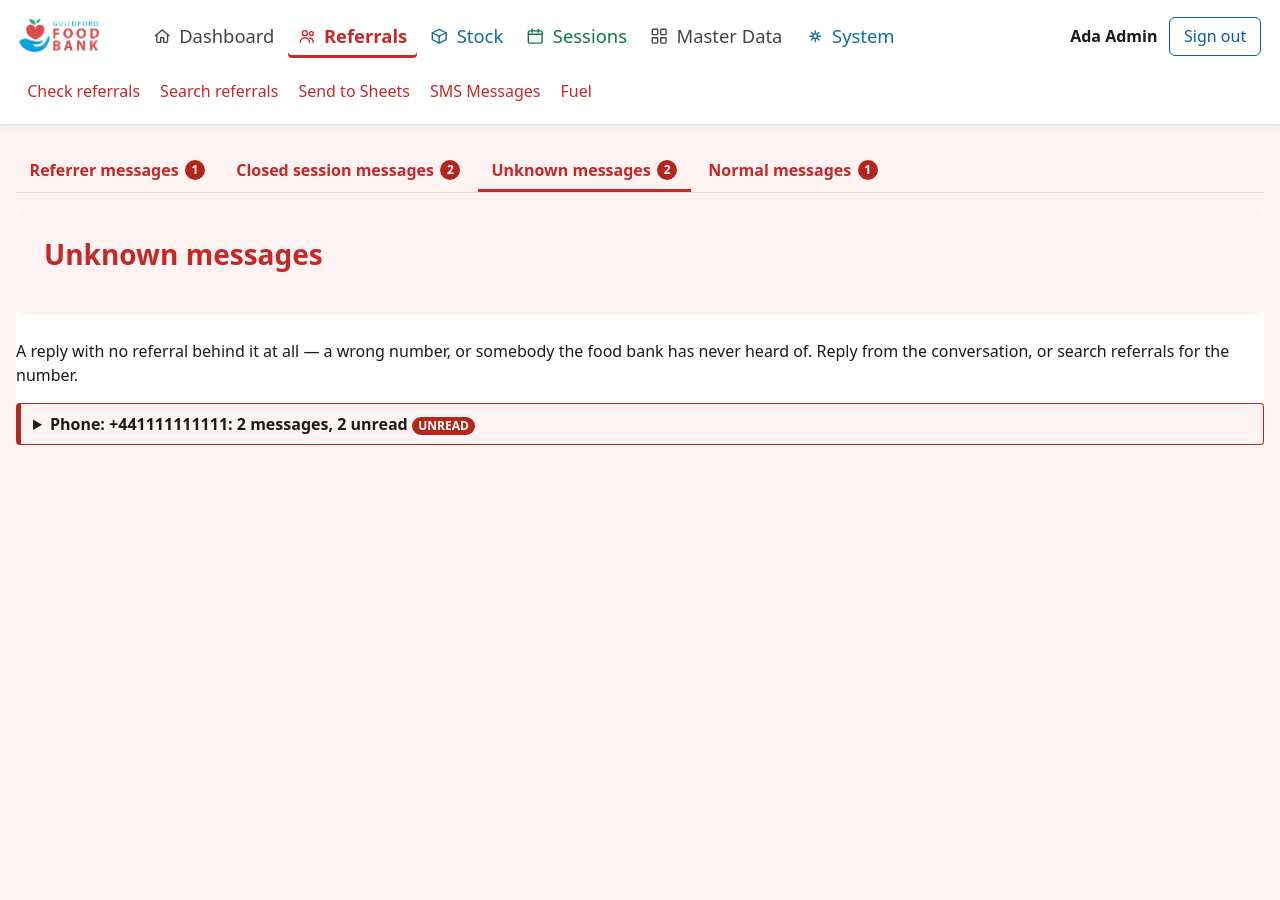
Test: SmsInboxLayout — Unknown messages tab › opens referral search with an unmatched sender number pre-filled without putting it in the URL
Click the text "Phone: +441111111111". click: (80, 424)
box: [50,413,228,435]
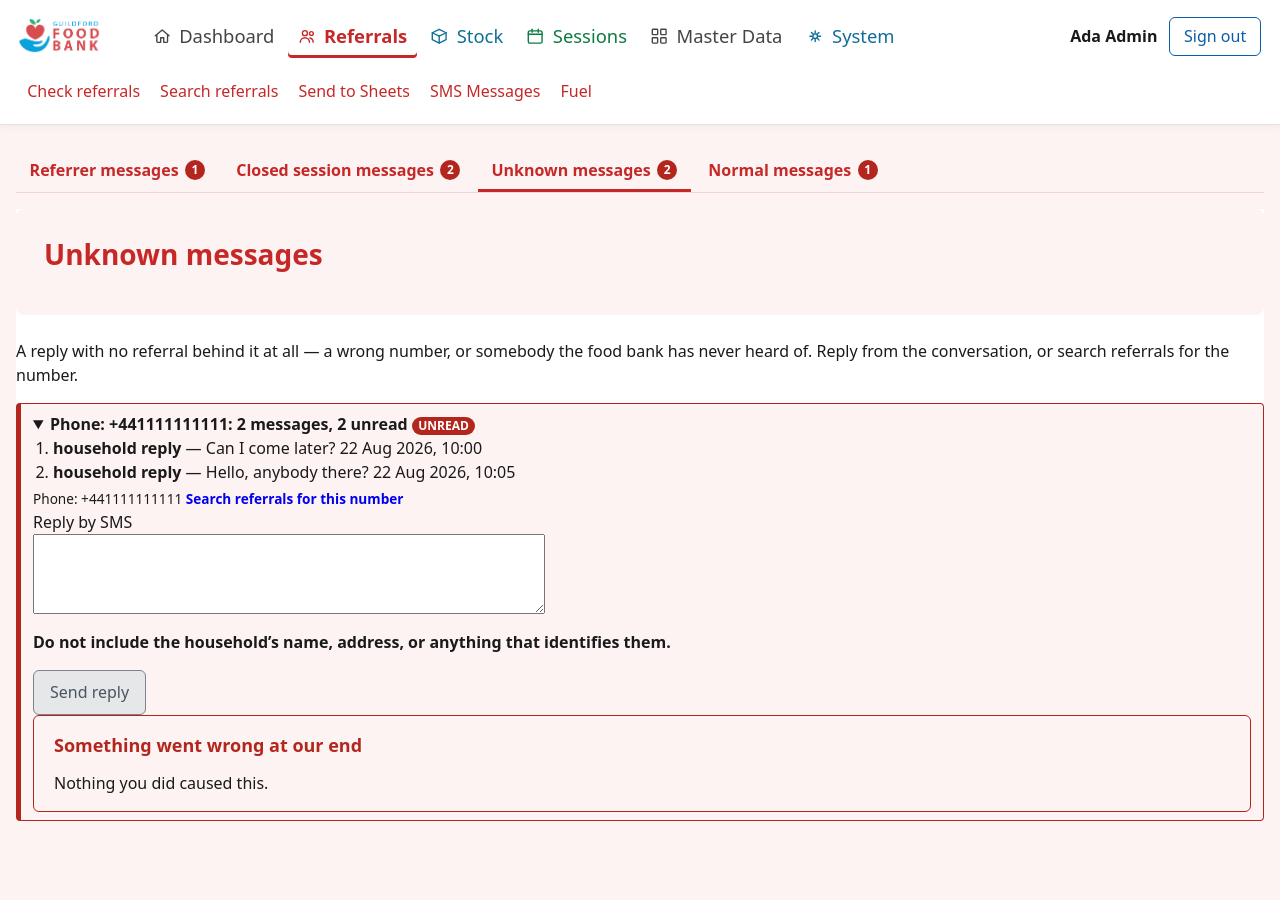
Click the link "Search referrals for this number". click: (295, 499)
box: [186,489,404,508]
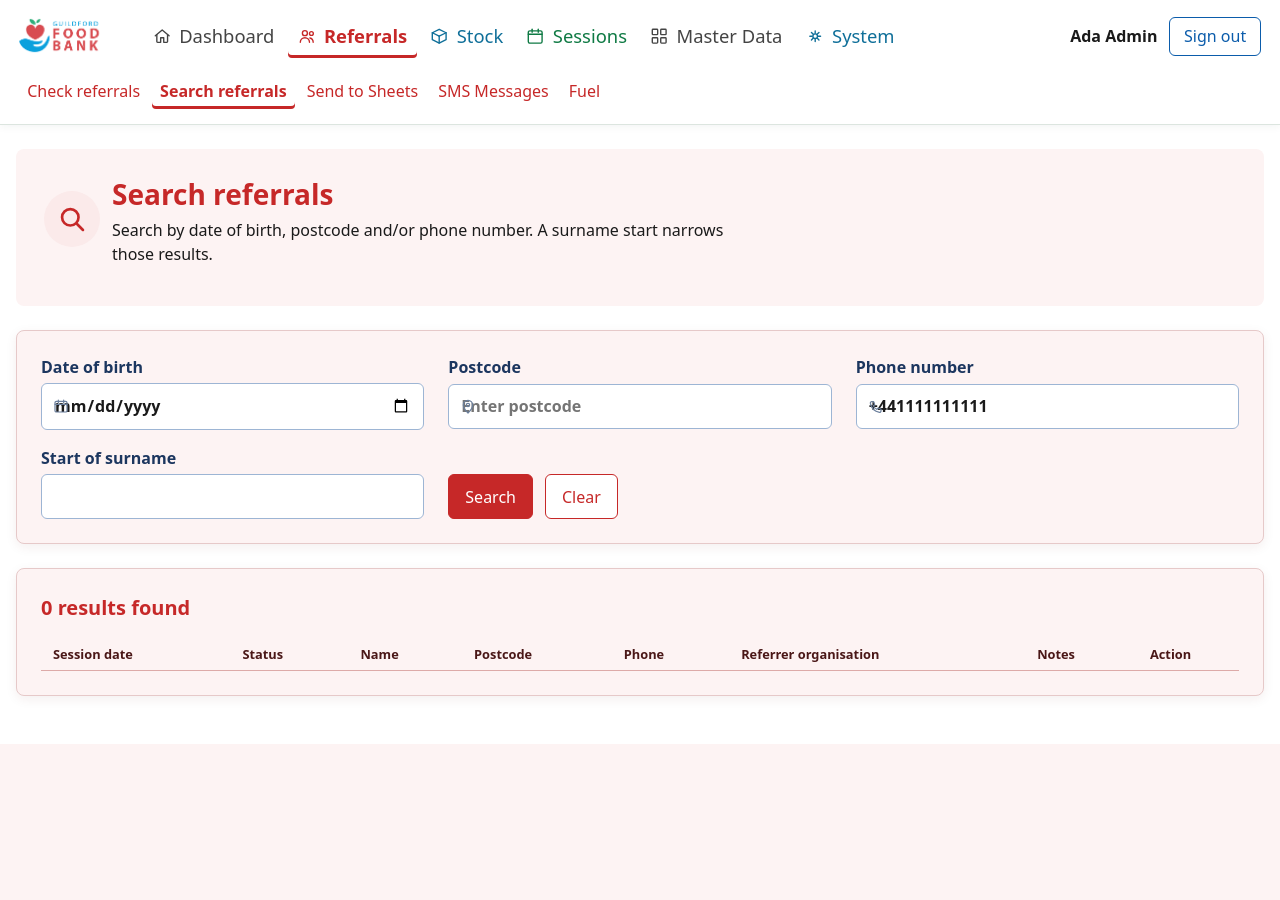
Expected: the heading "Search referrals" is shown, [112,175,333,213]
Expected: the field labelled "Phone number" holds "+441111111111", [856,384,1239,429]
Expected: the heading "0 results found" is shown, [41,594,190,621]
